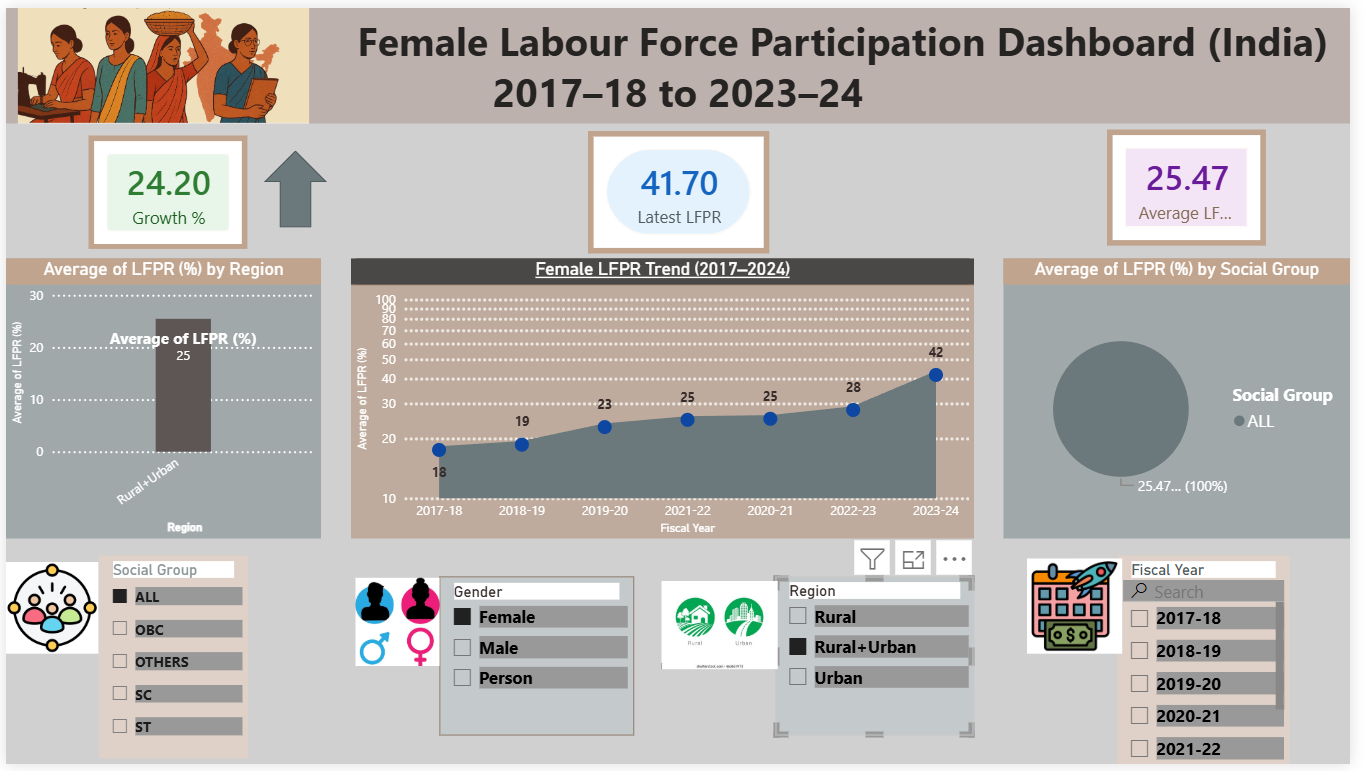

The page's visual inventory and layout, read from the dashboard file:
{"tool":"powerbi","page":{"name":"Page 1","canvas":[1280,720],"ordinal":0},"visuals":[{"type":"cardVisual","fields":{"Data":["PLFS.Latest LFPR"]},"box":[554.2,116.6,172.6,116.6],"z":0},{"type":"textbox","box":[0,0,1280,110],"z":1000},{"type":"cardVisual","fields":{"Data":["PLFS.Growth %"]},"box":[78.4,121.7,151.4,108.1],"z":2000},{"type":"cardVisual","fields":{"Data":["PLFS.Average LFPR"]},"box":[1048.9,116.2,151.4,110.8],"z":3000},{"type":"lineChart","title":"Female LFPR Trend (2017–2024)","fields":{"Category":["PLFS.Fiscal Year"],"Y":["Avg(PLFS.LFPR (%))"]},"box":[328.3,238.3,593.3,266.7],"z":4000},{"type":"clusteredColumnChart","fields":{"Category":["PLFS.Region"],"Y":["Avg(PLFS.LFPR (%))"]},"box":[0,238.3,300,266.7],"z":5000},{"type":"pieChart","fields":{"Category":["PLFS.Social Group"],"Y":["Avg(PLFS.LFPR (%))"]},"box":[950,238.3,330,266.7],"z":6000},{"type":"slicer","fields":{"Values":["PLFS.Fiscal Year"]},"box":[1058.4,521.8,163.6,198.7],"z":7000},{"type":"slicer","fields":{"Values":["PLFS.Region"]},"box":[732.6,542,189.2,151.4],"z":8000},{"type":"slicer","fields":{"Values":["PLFS.Gender"]},"box":[412.3,542,185.2,151.4],"z":9000},{"type":"slicer","fields":{"Values":["PLFS.Social Group"]},"box":[88.3,521.7,141.7,193.3],"z":10000},{"type":"shape","box":[245,135,60,73.3],"z":11000},{"type":"image","box":[0,0,300,110],"z":12000},{"type":"image","box":[965.1,524.5,104.1,90.6],"z":13000},{"type":"image","box":[332.5,529.9,79.8,109.5],"z":14000},{"type":"image","box":[624.5,535.3,110.8,104.1],"z":15000},{"type":"image","box":[0,523.9,87.8,93.9],"z":16000}]}

Visuals, with their boxes in screenshot pixels (x1, y1, x2, y2), scaled from the page's 1280x720 canvas onto the 1365x771 screenshot:
cardVisual - PLFS.Latest LFPR: x1=591, y1=125, x2=775, y2=250
textbox: x1=0, y1=0, x2=1364, y2=118
cardVisual - PLFS.Growth %: x1=84, y1=130, x2=245, y2=246
cardVisual - PLFS.Average LFPR: x1=1119, y1=124, x2=1280, y2=243
"Female LFPR Trend (2017–2024)" lineChart: x1=350, y1=255, x2=983, y2=541
clusteredColumnChart - PLFS.Region x Avg(PLFS.LFPR (%)): x1=0, y1=255, x2=320, y2=541
pieChart - PLFS.Social Group x Avg(PLFS.LFPR (%)): x1=1013, y1=255, x2=1364, y2=541
slicer - PLFS.Fiscal Year: x1=1129, y1=559, x2=1303, y2=770
slicer - PLFS.Region: x1=781, y1=580, x2=983, y2=743
slicer - PLFS.Gender: x1=440, y1=580, x2=637, y2=743
slicer - PLFS.Social Group: x1=94, y1=559, x2=245, y2=766
shape: x1=261, y1=145, x2=325, y2=223
image: x1=0, y1=0, x2=320, y2=118
image: x1=1029, y1=562, x2=1140, y2=659
image: x1=355, y1=567, x2=440, y2=685
image: x1=666, y1=573, x2=784, y2=685
image: x1=0, y1=561, x2=94, y2=662
